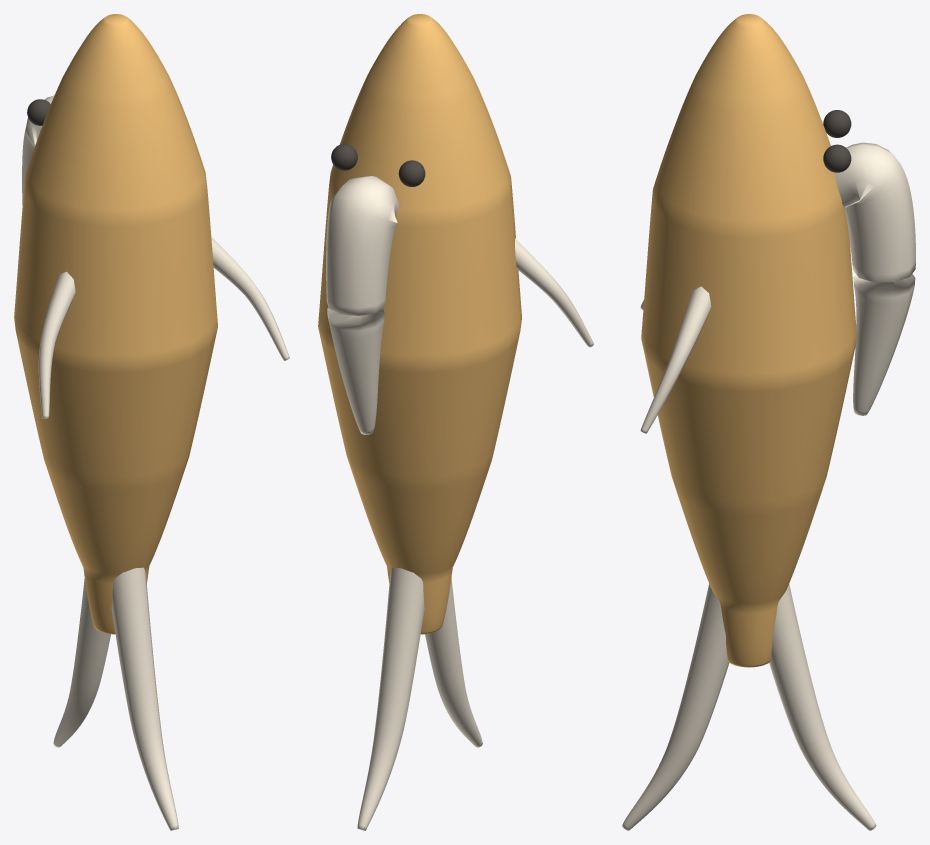
The model's file is goldfish_v3.glb.
The picture shows the model from 3 angles, left to right: view 1: azimuth 30°, elevation 25°; view 2: azimuth 150°, elevation 25°; view 3: azimuth 270°, elevation 25°; orthographic projection. The views are drawn at different scales.
Parts seen in each view (by area): view 1: Body, TailUp, TailDown, PecL, PecR, DorsalRidge; view 2: Body, DorsalRidge, TailDown, TailUp, PecL, EyeL, EyeR; view 3: Body, DorsalRidge, TailDown, TailUp, PecR, EyeR, EyeL.
Boxes of the visible parts, x1=… form: Body: x1=14, y1=14, x2=217, y2=634; TailUp: x1=111, y1=567, x2=178, y2=830; TailDown: x1=53, y1=578, x2=110, y2=747; PecL: x1=38, y1=271, x2=75, y2=418; PecR: x1=211, y1=237, x2=289, y2=360; DorsalRidge: x1=22, y1=95, x2=54, y2=205; Body: x1=318, y1=14, x2=521, y2=634; DorsalRidge: x1=326, y1=176, x2=398, y2=434; TailDown: x1=357, y1=567, x2=424, y2=830; TailUp: x1=425, y1=577, x2=482, y2=747; PecL: x1=515, y1=238, x2=593, y2=347; EyeL: x1=398, y1=160, x2=425, y2=186; EyeR: x1=331, y1=144, x2=357, y2=170; Body: x1=641, y1=14, x2=856, y2=667; DorsalRidge: x1=835, y1=142, x2=915, y2=415; TailDown: x1=769, y1=584, x2=876, y2=830; TailUp: x1=622, y1=583, x2=729, y2=830; PecR: x1=640, y1=286, x2=711, y2=433; EyeR: x1=823, y1=144, x2=851, y2=172; EyeL: x1=823, y1=110, x2=851, y2=137.
Size of the model in its own units: 0.2555 by 0.7622 by 0.2503.
